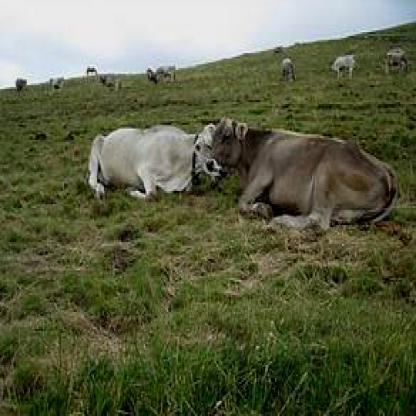cow: (205, 117, 400, 231), (84, 125, 217, 204)
